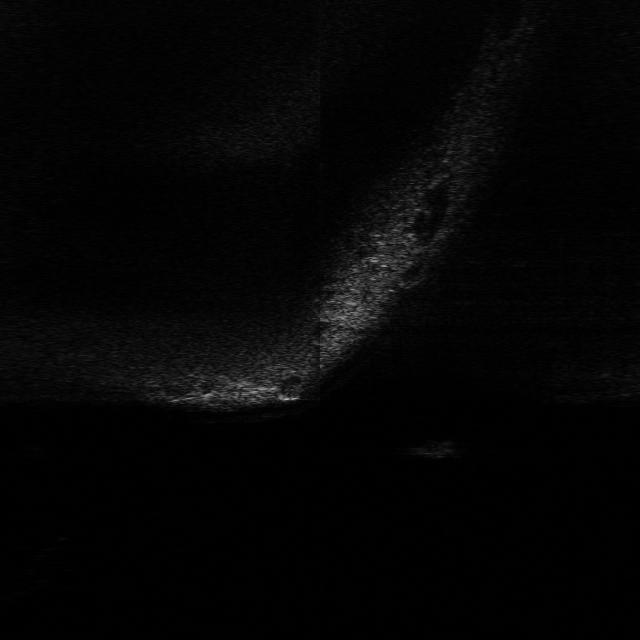cube: (402, 435, 461, 461)
